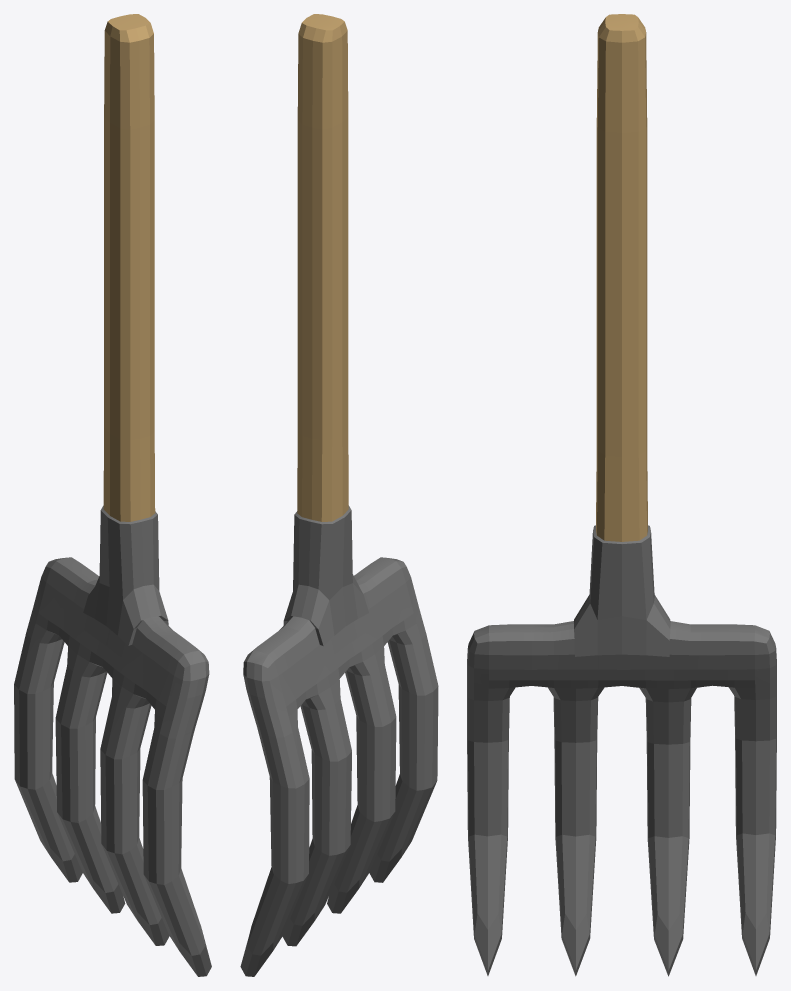
The model's file is pitchfork.fbx.
3 renders of one model, left to right at view 1: azimuth 30°, elevation 25°; view 2: azimuth 150°, elevation 25°; view 3: azimuth 270°, elevation 25°, orthographic. The views are drawn at different scales.
Parts seen in each view (by area): view 1: Cube.001; view 2: Cube.001; view 3: Cube.001.
Part boxes in pixels (x1=…): Cube.001: x1=14, y1=14, x2=211, y2=976; Cube.001: x1=240, y1=14, x2=438, y2=976; Cube.001: x1=467, y1=14, x2=776, y2=976.
Size of the model in its own units: 40.54 by 515 by 152.
